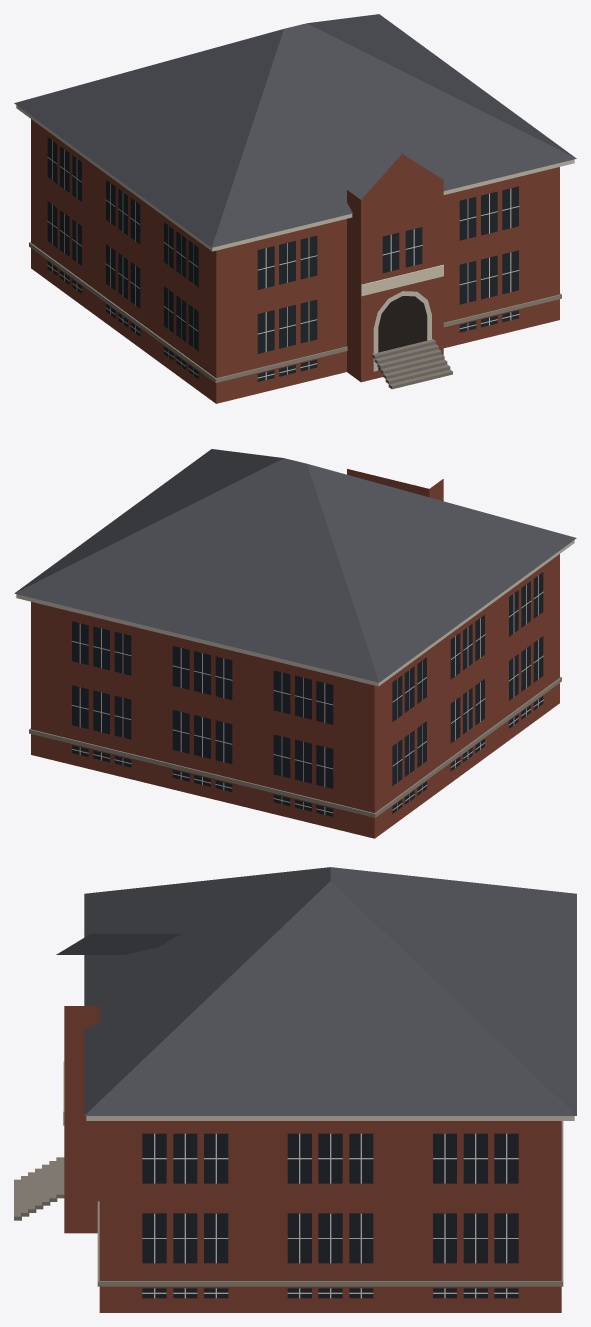
The model's file is james-mitchell-school-1913.glb.
3 views of the same model, one above another, from view 1: azimuth 30°, elevation 25°; view 2: azimuth 150°, elevation 25°; view 3: azimuth 270°, elevation 25° (orthographic). The views are drawn at different scales.
Parts seen in each view (by area): view 1: kit-james-mitchell-school-1913; view 2: kit-james-mitchell-school-1913; view 3: kit-james-mitchell-school-1913.
Boxes of the visible parts, <box> form: kit-james-mitchell-school-1913: <box>14,14,576,403</box>; kit-james-mitchell-school-1913: <box>14,449,576,838</box>; kit-james-mitchell-school-1913: <box>14,867,576,1312</box>.
Bounding box in the file's own units: 23.9 × 16.76 × 25.59.
